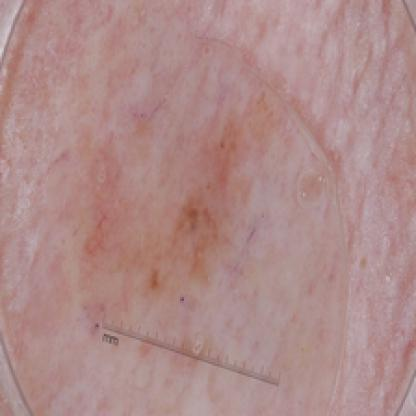malignant: (152, 158, 254, 275)
